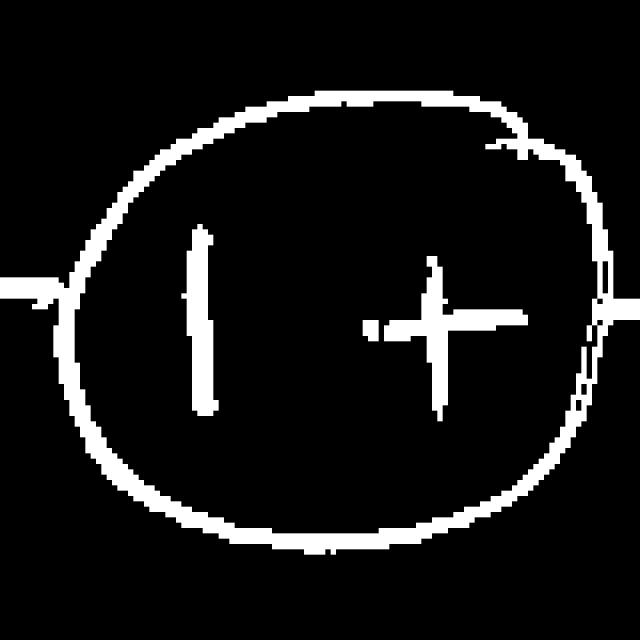voltage_source: (48, 84, 614, 576)
